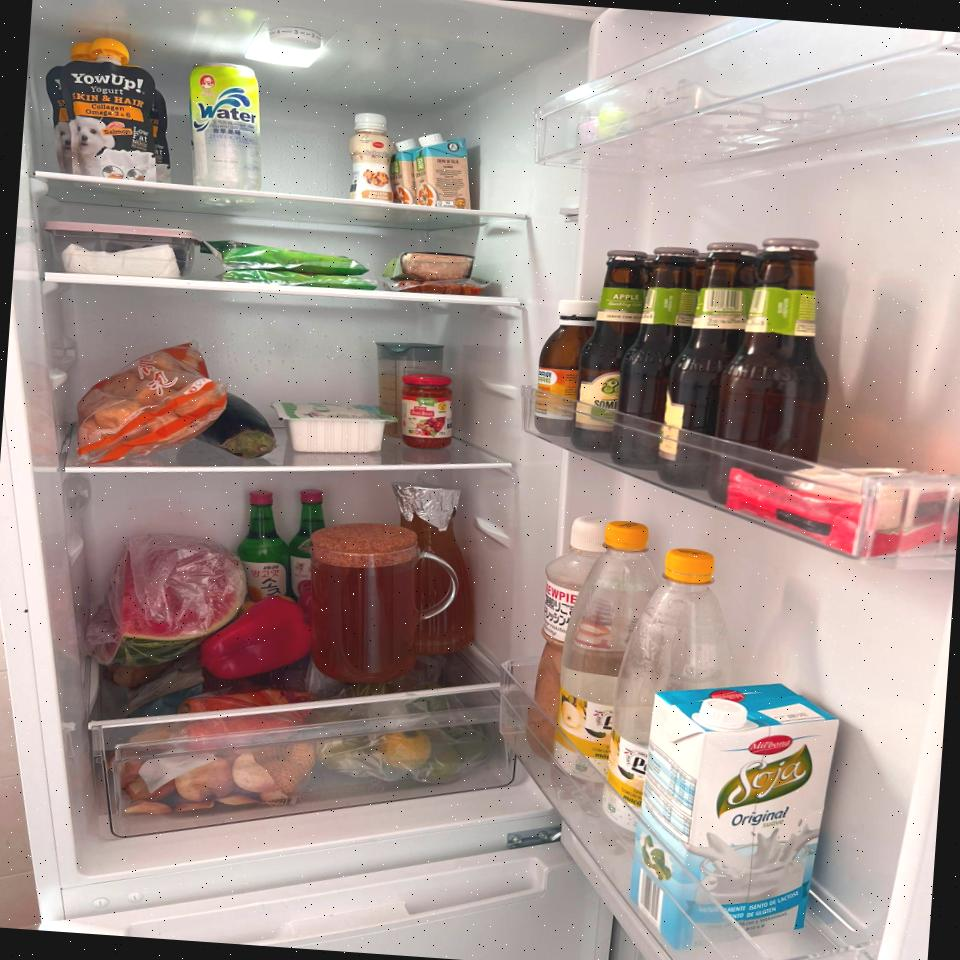Leche: (623, 675, 839, 959)
Limón: (377, 727, 434, 771)
Zanahoria: (174, 684, 314, 758)
